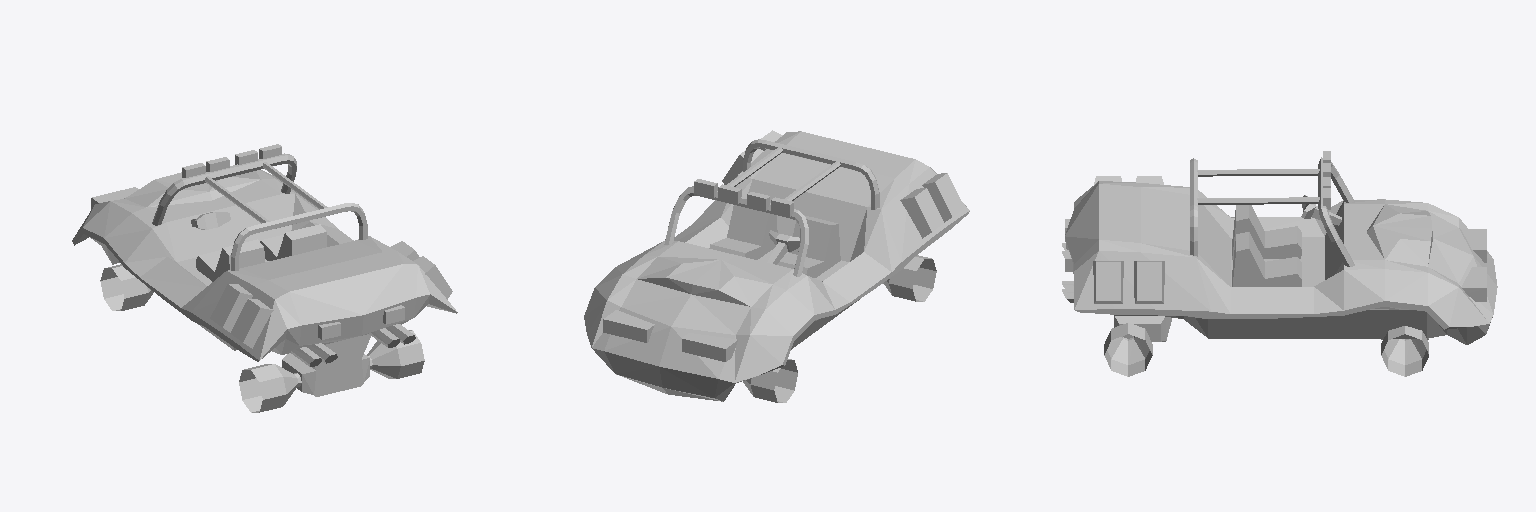
Rendered from jeepnw.obj.
3 renders of one model, left to right at view 1: azimuth 30°, elevation 25°; view 2: azimuth 150°, elevation 25°; view 3: azimuth 270°, elevation 25°, orthographic.
Parts seen in each view (by area): view 1: main; view 2: main, lsteer; view 3: main.
Part boxes in pixels (left/top/right/bottom): main: left=72, top=144, right=457, bottom=412; main: left=584, top=130, right=969, bottom=402; lsteer: left=767, top=230, right=799, bottom=264; main: left=1062, top=151, right=1497, bottom=376.
Bounding box in the file's own units: 0.928 × 0.6882 × 1.66.